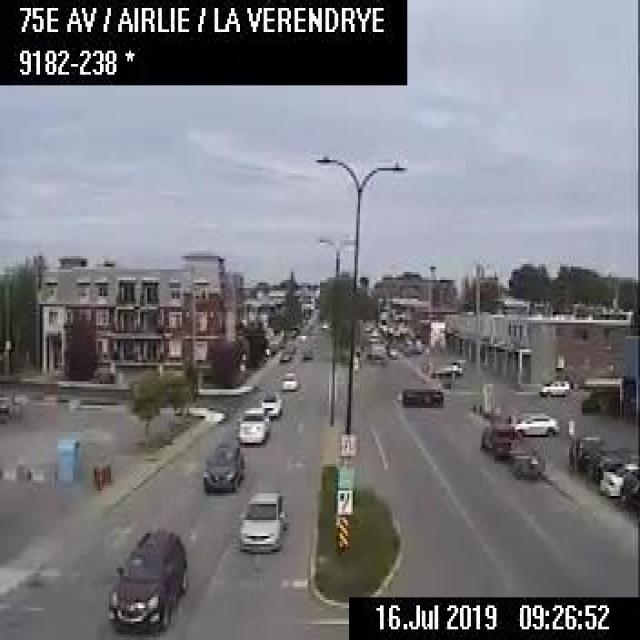construction: (94, 466, 100, 488), (100, 463, 104, 483)
vehicle: (104, 523, 189, 632), (478, 419, 540, 480), (236, 487, 285, 552), (570, 431, 622, 477), (200, 438, 244, 490), (599, 462, 637, 495), (236, 404, 267, 443), (512, 411, 559, 436), (534, 376, 571, 397), (429, 360, 461, 380), (260, 389, 280, 417), (368, 328, 386, 357), (280, 371, 297, 390), (300, 346, 312, 359), (278, 351, 290, 362)
